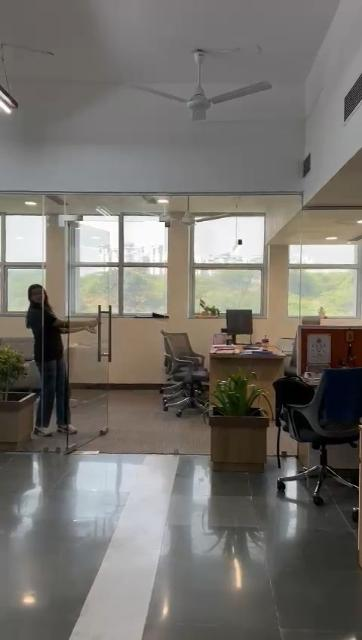floor: (0, 386, 359, 640)
moving-obj: (25, 278, 103, 442)
object: (276, 363, 362, 491), (206, 380, 270, 464), (162, 327, 207, 417), (0, 334, 34, 450), (220, 306, 258, 348)
wall: (264, 210, 294, 342), (118, 322, 160, 382), (166, 229, 190, 323), (46, 230, 66, 304)
